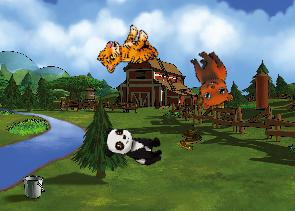bear: (176, 45, 241, 115)
panda: (101, 125, 166, 167)
tiger: (93, 18, 163, 87)
